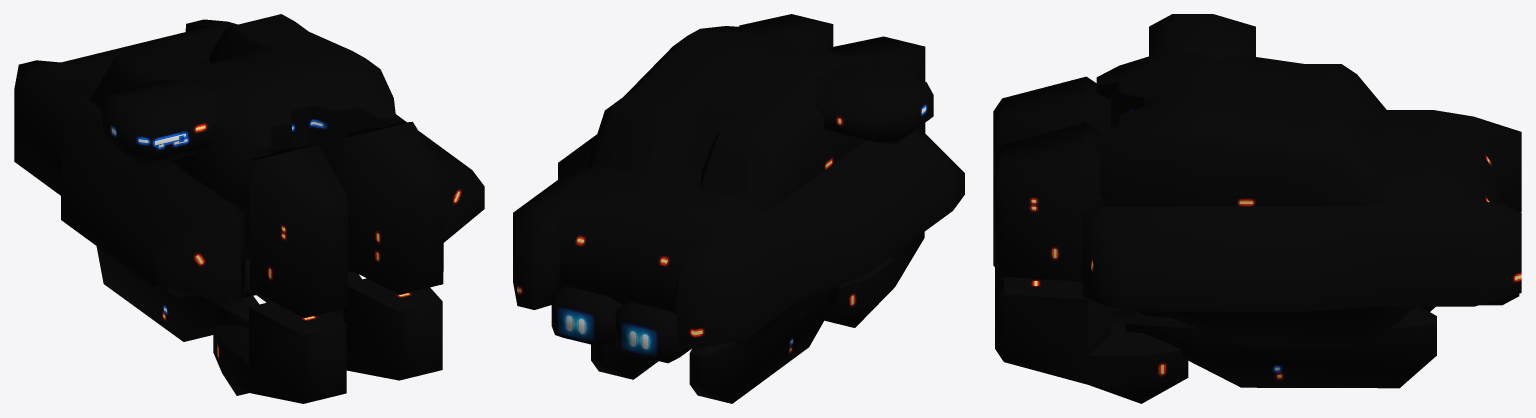
Rendered from hgn_su_tugs_01.glb.
3 renders of one model, left to right at view 1: azimuth 30°, elevation 25°; view 2: azimuth 150°, elevation 25°; view 3: azimuth 270°, elevation 25°, orthographic. The views are drawn at different scales.
Visible parts, largest first — view 1: hgn_su_tugs_01_LOD1; view 2: hgn_su_tugs_01_LOD1; view 3: hgn_su_tugs_01_LOD1.
Part boxes in pixels (left/top/right/bottom): hgn_su_tugs_01_LOD1: left=14, top=14, right=484, bottom=403; hgn_su_tugs_01_LOD1: left=513, top=14, right=964, bottom=403; hgn_su_tugs_01_LOD1: left=993, top=14, right=1521, bottom=403.
Size of the model in its own units: 0.3146 by 0.2693 by 0.4484.
Materials: 1 (1 with a texture image).
